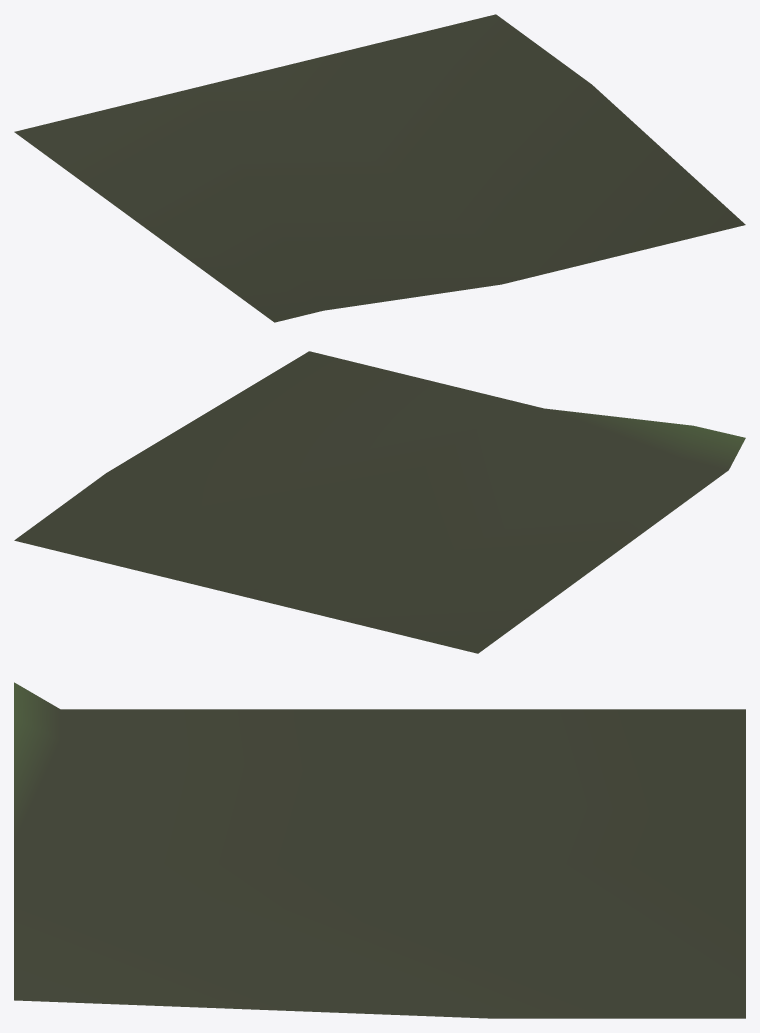
File: terrain_18_6_2.glb
3 views of the same model, one above another, from view 1: azimuth 30°, elevation 25°; view 2: azimuth 150°, elevation 25°; view 3: azimuth 270°, elevation 25° (orthographic). The views are drawn at different scales.
Parts seen in each view (by area): view 1: m; view 2: m; view 3: m.
Part boxes in pixels (box(x1,y1,x2,y2)): m: box(14, 14, 745, 322); m: box(14, 351, 745, 653); m: box(14, 682, 745, 1018).
Size of the model in its own units: 4 by 0.1634 by 4.
